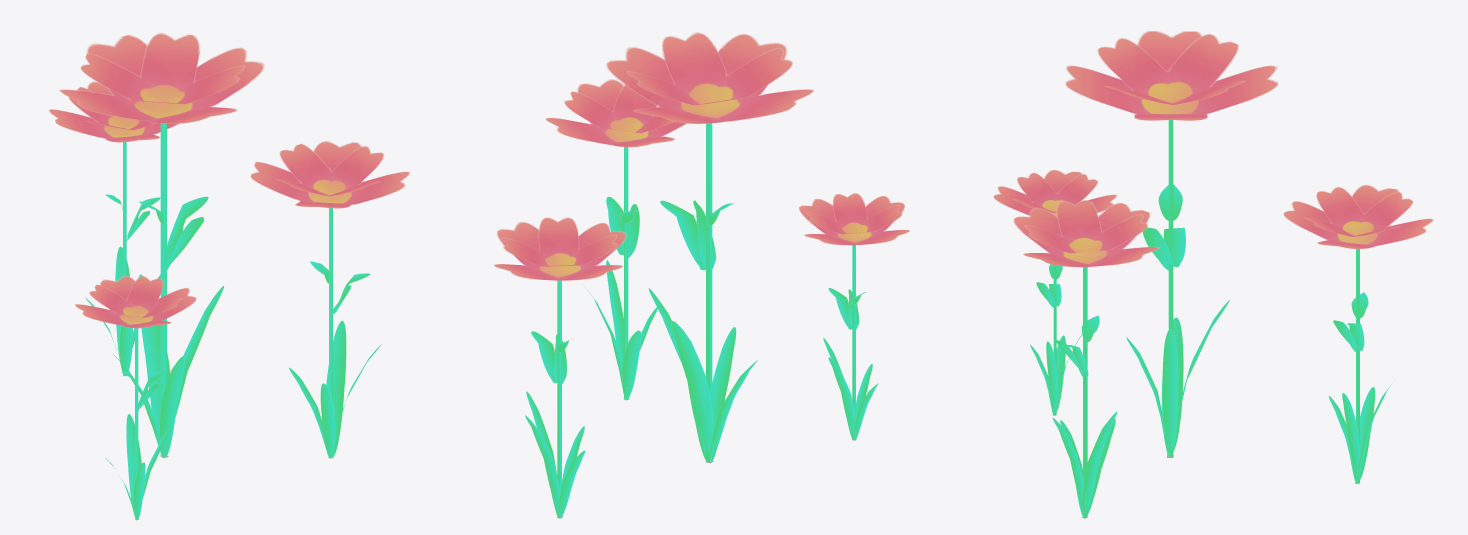
Rendered from Flower_n_06.glb.
3 renders of one model, left to right at view 1: azimuth 30°, elevation 25°; view 2: azimuth 150°, elevation 25°; view 3: azimuth 270°, elevation 25°, orthographic.
Parts seen in each view (by area): view 1: polySurface328; view 2: polySurface328; view 3: polySurface328.
Part boxes in pixels (<box>): polySurface328: <box>48,32,410,520</box>; polySurface328: <box>493,32,910,518</box>; polySurface328: <box>993,31,1433,518</box>.
Bounding box in the file's own units: 0.6392 × 0.6439 × 0.7135.
Materials: 2 (1 with a texture image).
